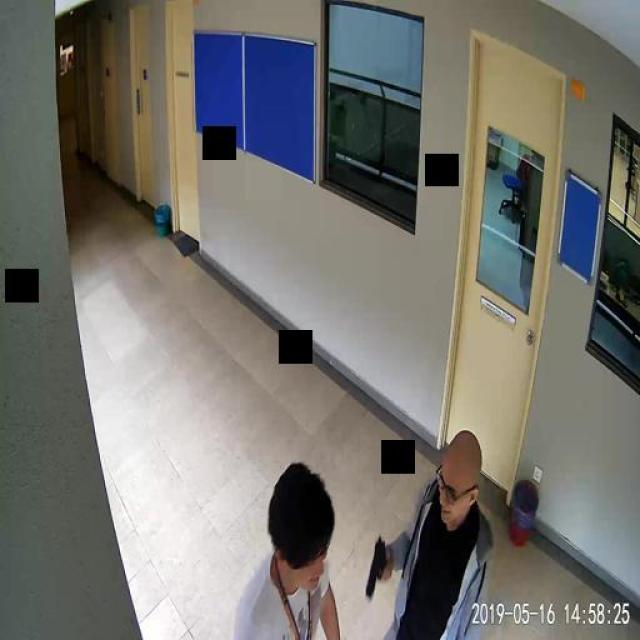gun: (364, 535, 388, 597)
